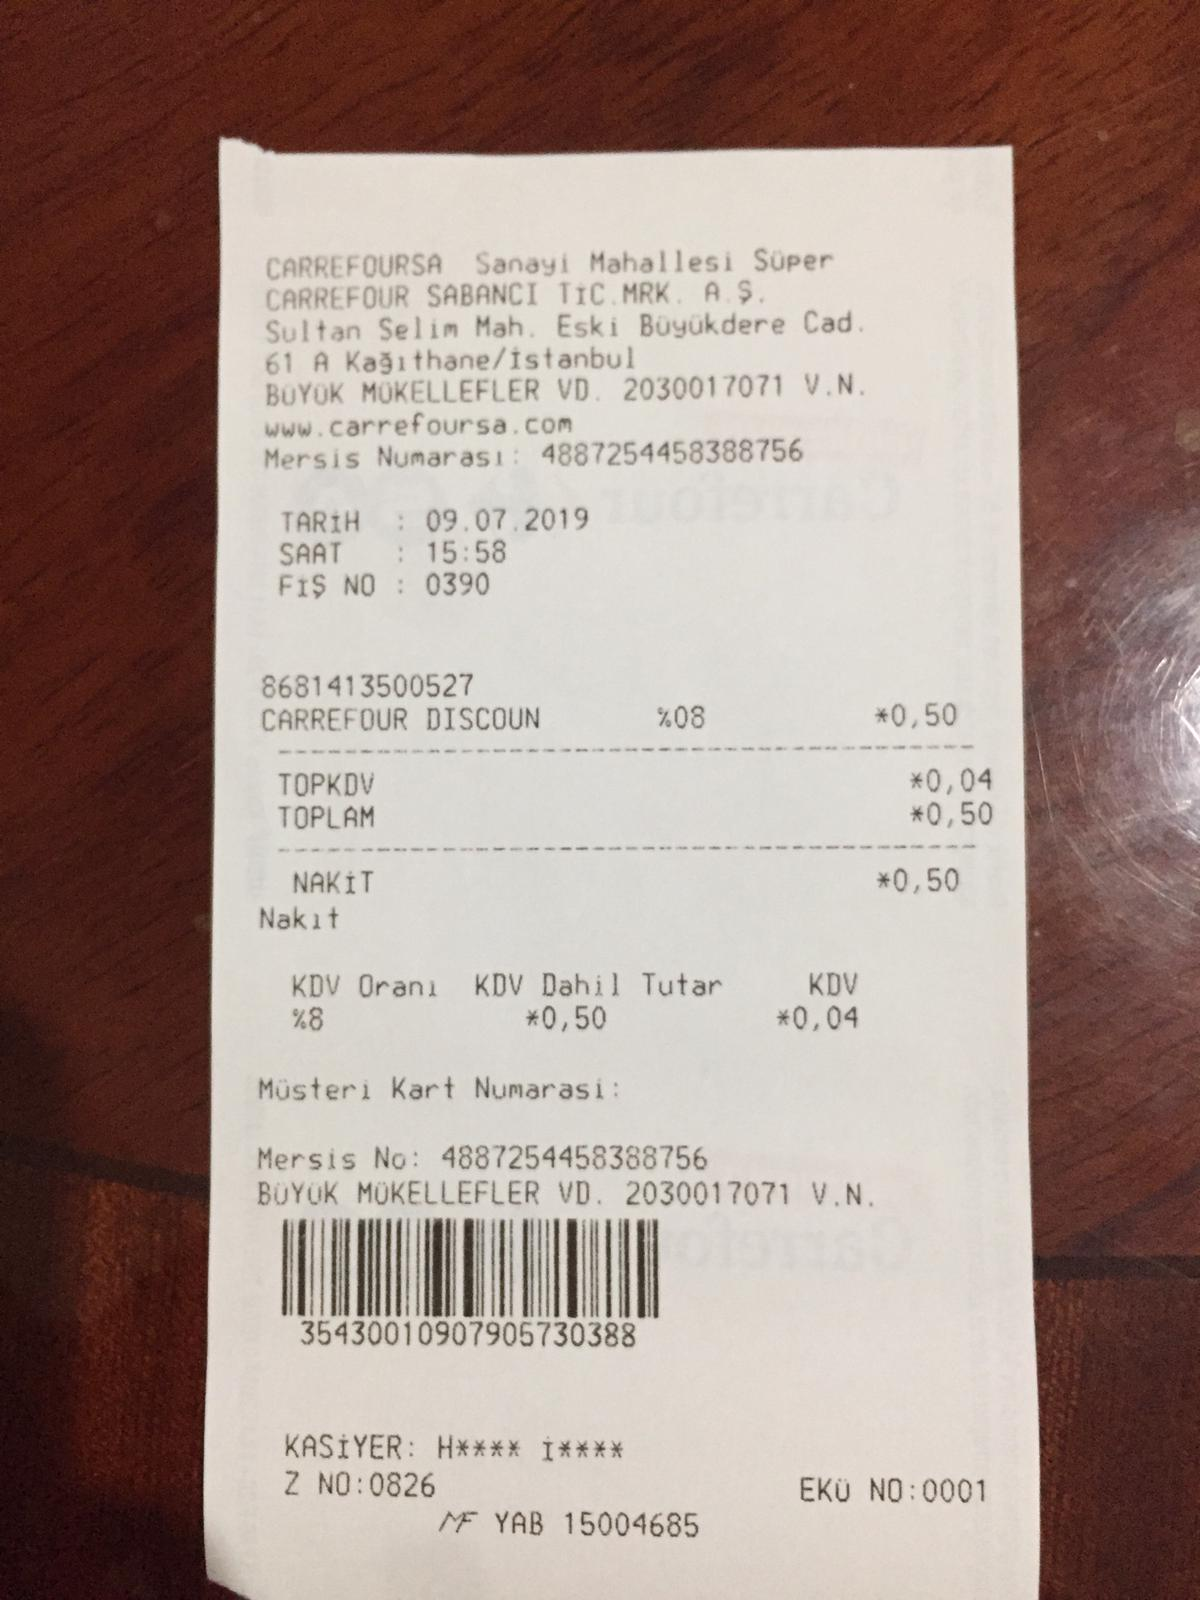total: (267, 799, 1001, 837)
